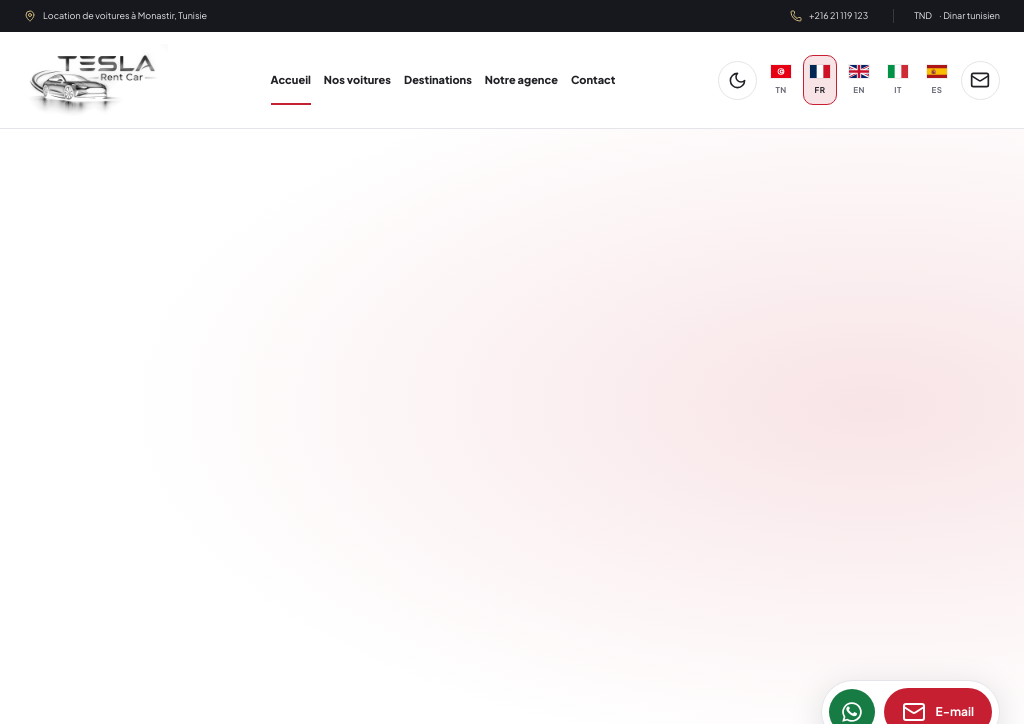
Multilingual rental experience › translates the site in all five languages, persists selection and switches RTL
Click the button with aria-label "تونسي".
click(781, 80)  # box top-left (764, 55), bottom-right (798, 105)
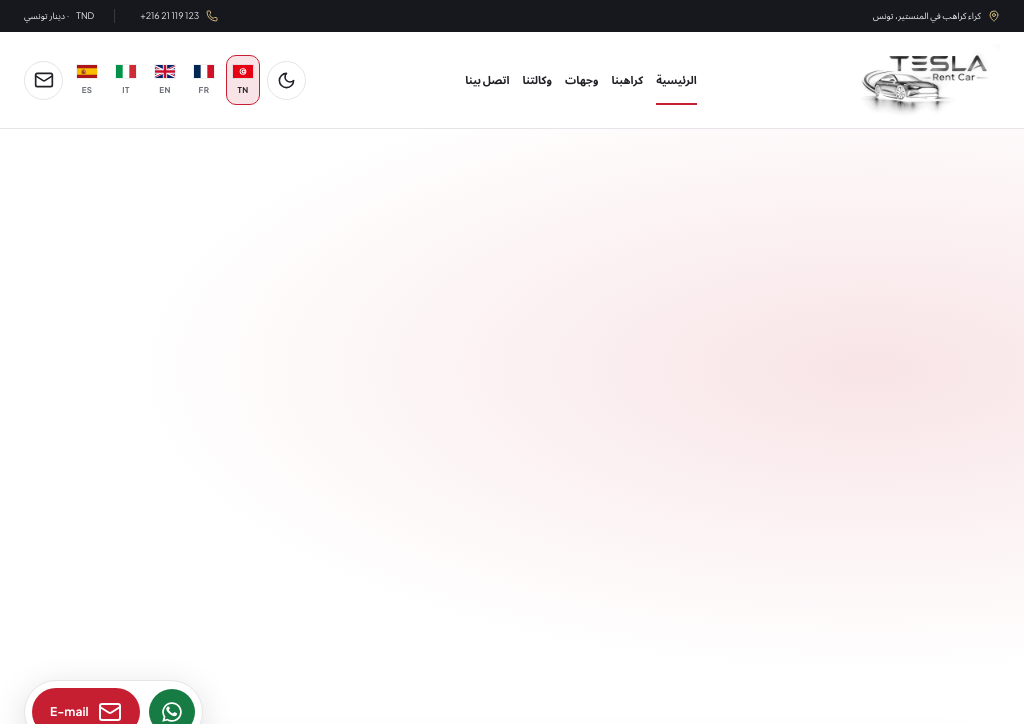
Click the button with aria-label "Français".
click(204, 80)  # box top-left (187, 55), bottom-right (221, 105)
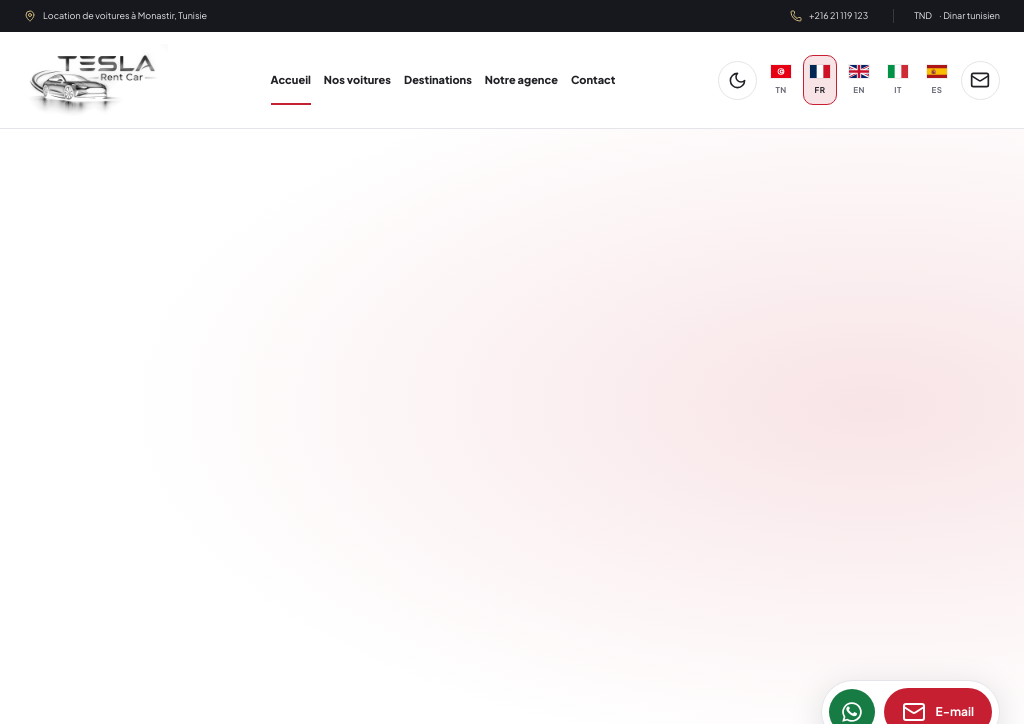
Click the button with aria-label "English".
click(859, 80)  # box top-left (842, 55), bottom-right (876, 105)
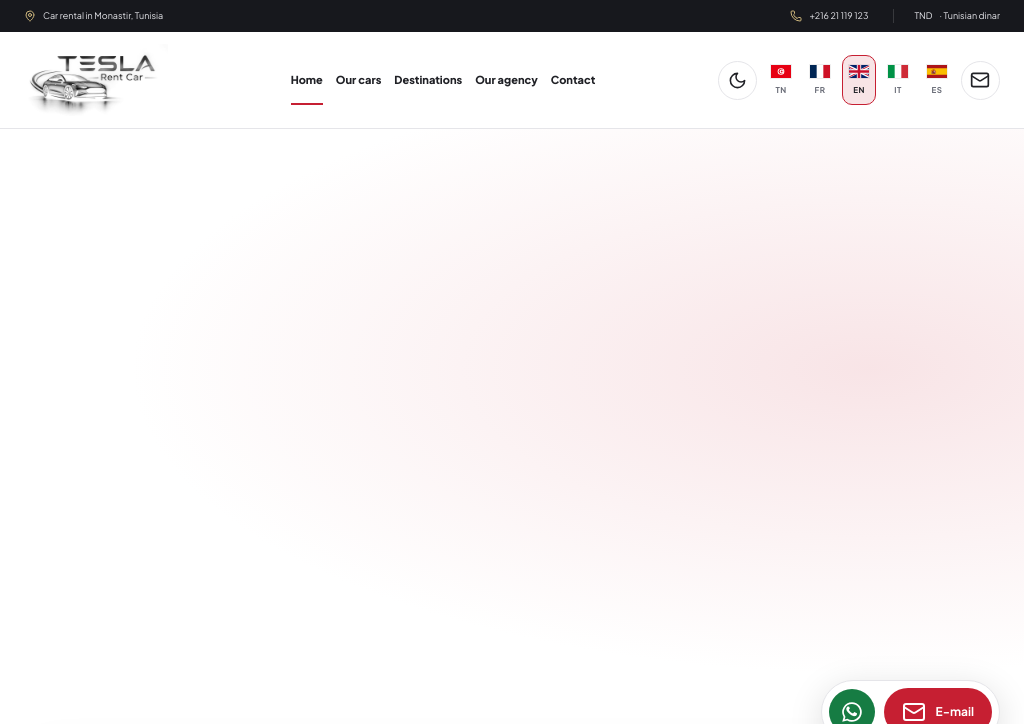
Click the button with aria-label "Italiano".
click(898, 80)  # box top-left (881, 55), bottom-right (915, 105)
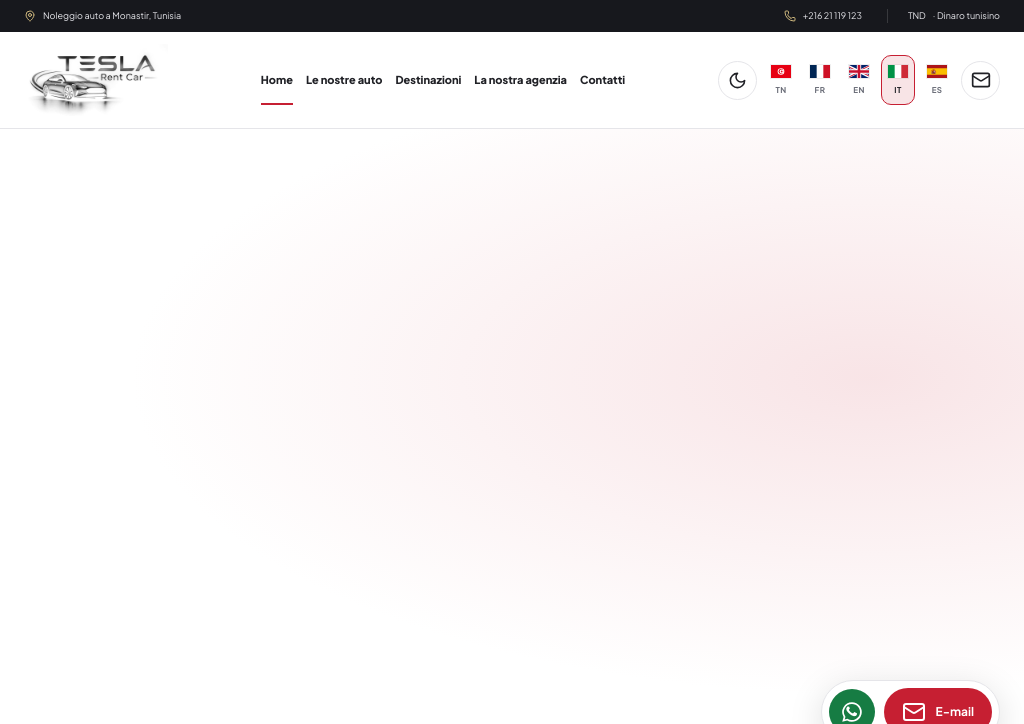
Click the button with aria-label "Español".
click(937, 80)  # box top-left (920, 55), bottom-right (954, 105)
(page scrolled)
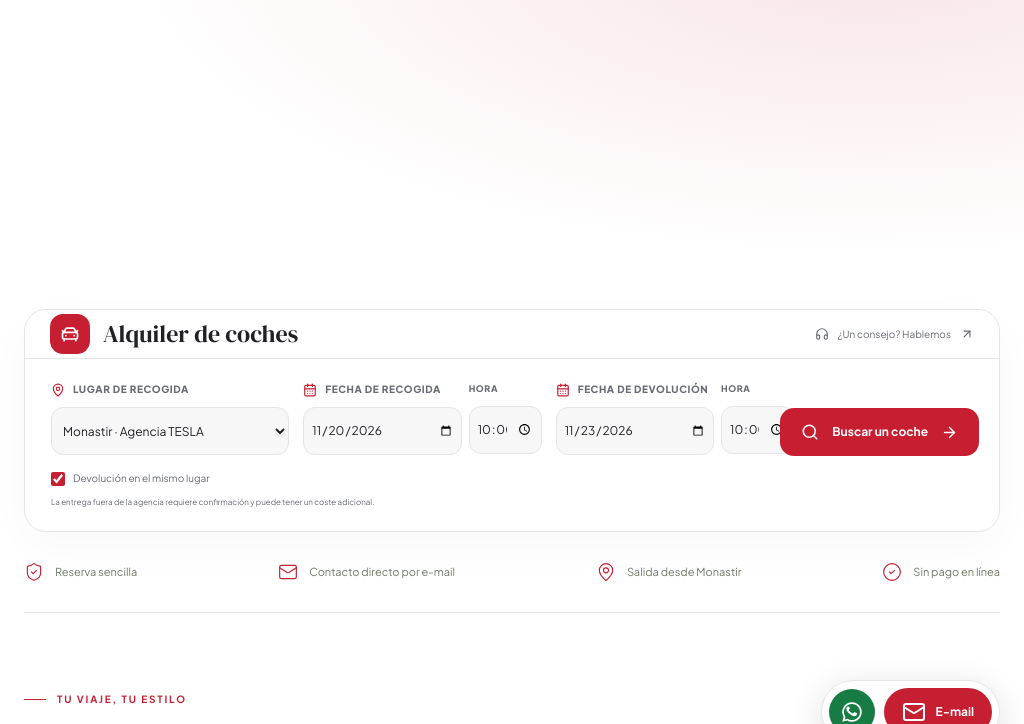
Result: the button "Buscar un coche" is shown at top-left (780, 408), bottom-right (979, 456)
